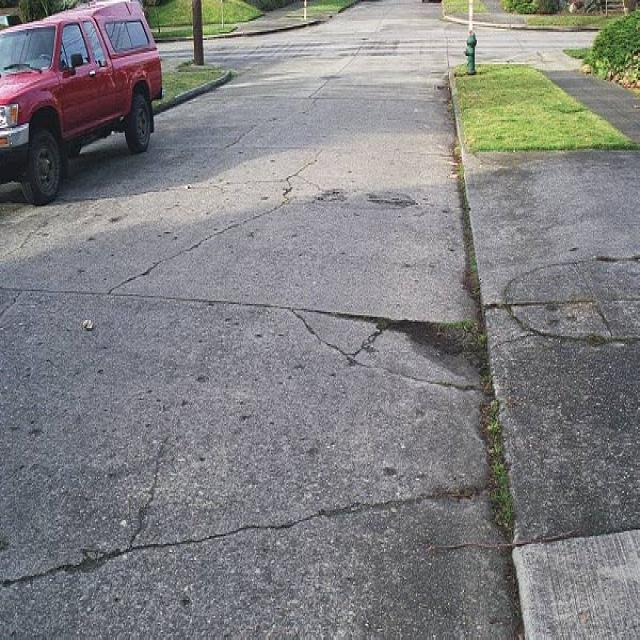Pothole: (387, 110, 640, 640)
